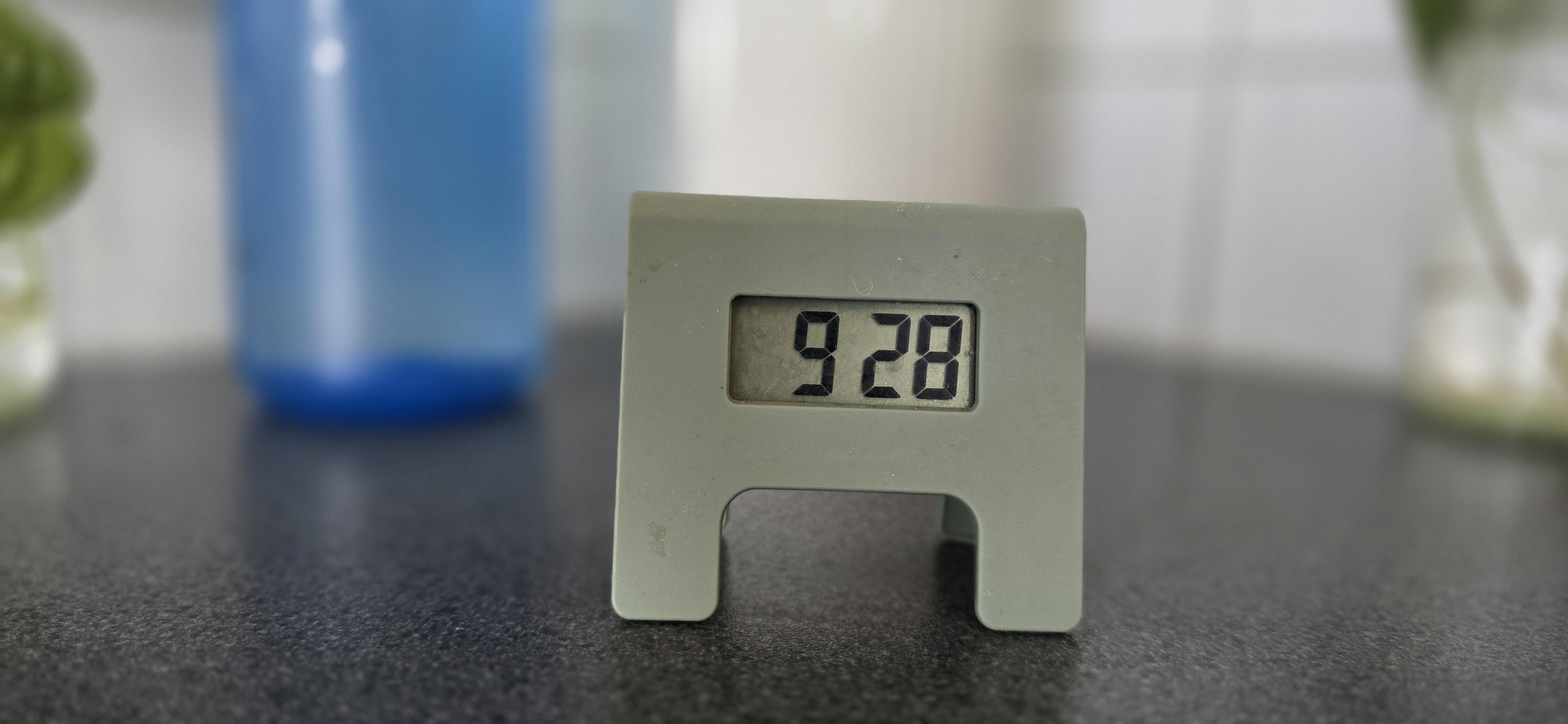bottle: (213, 2, 547, 407)
